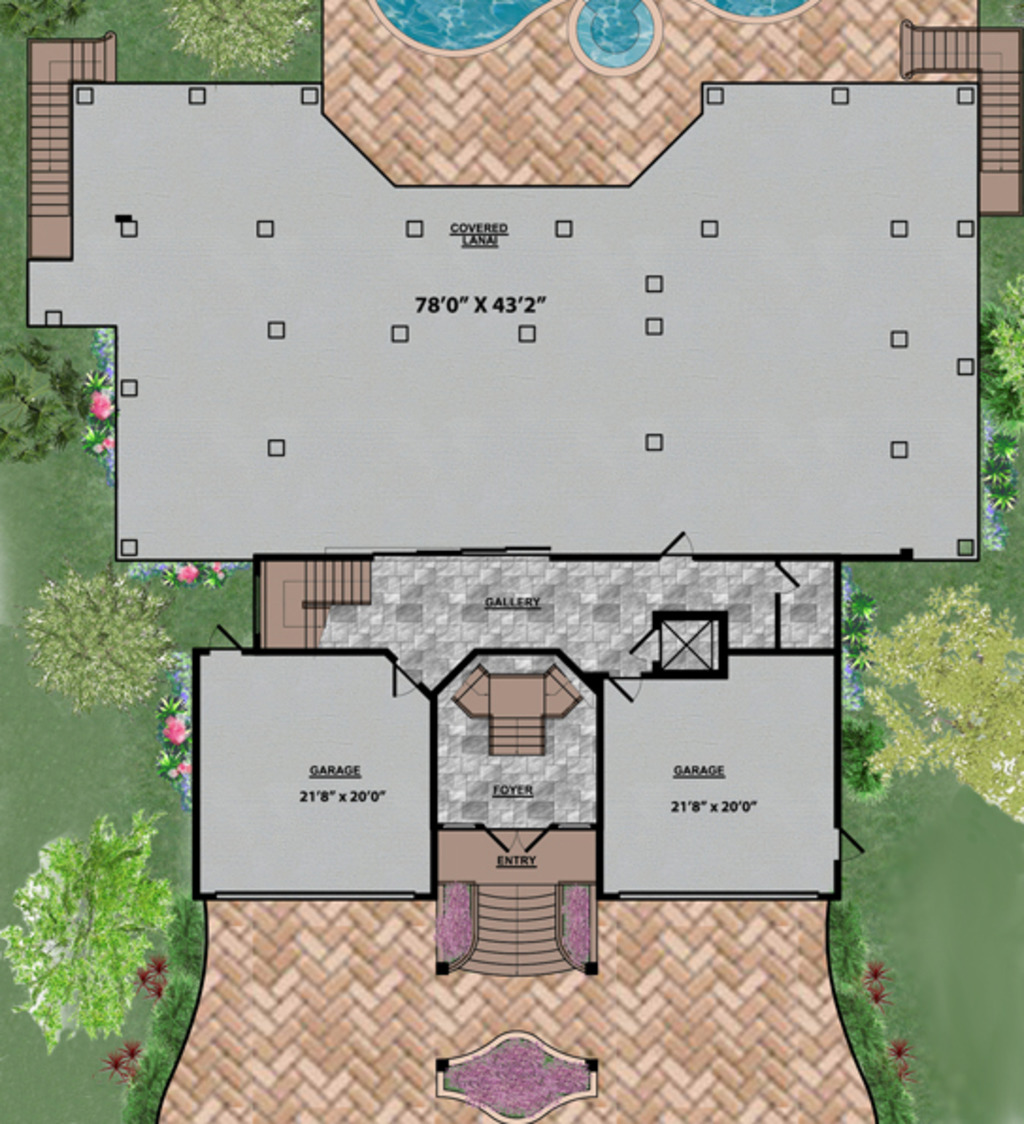stairs: (900, 18, 1023, 214), (18, 35, 117, 266), (452, 660, 581, 770), (254, 555, 375, 651), (467, 879, 573, 987)
